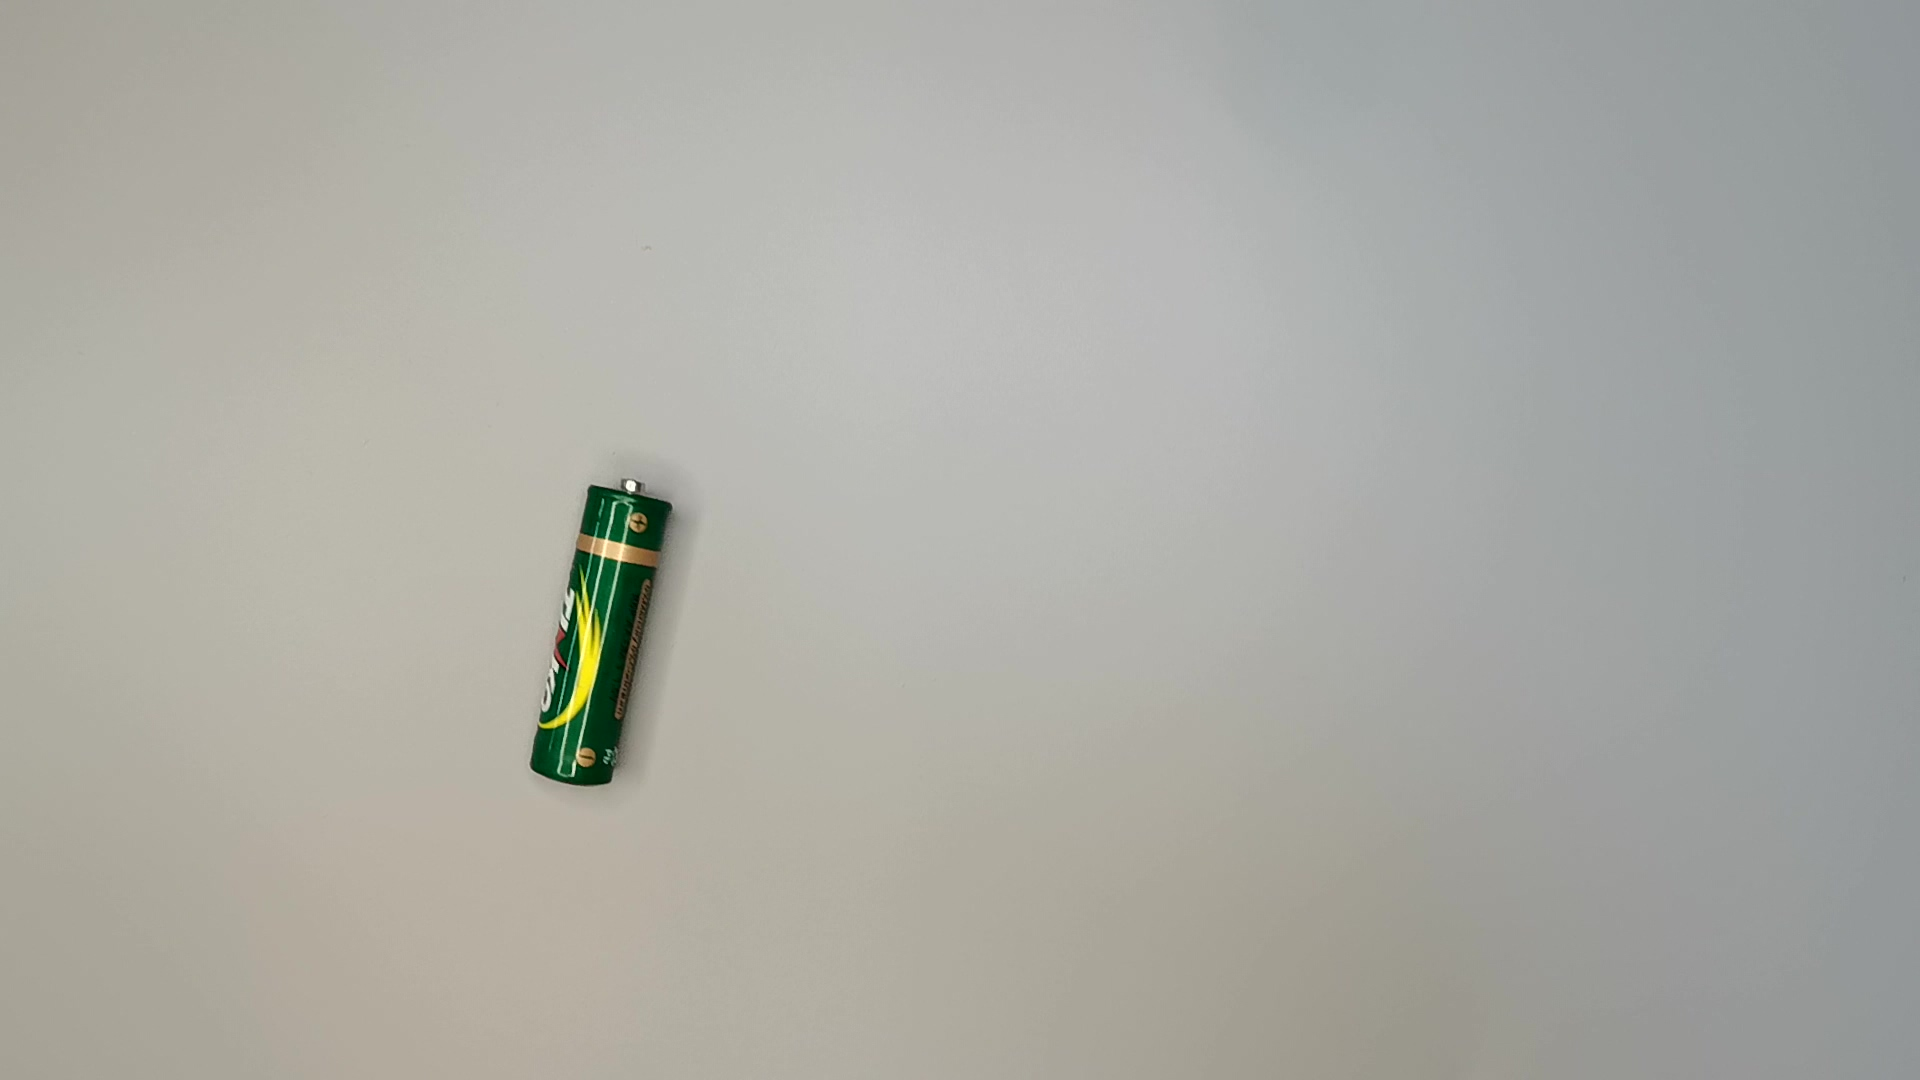battery: (512, 472, 680, 790)
